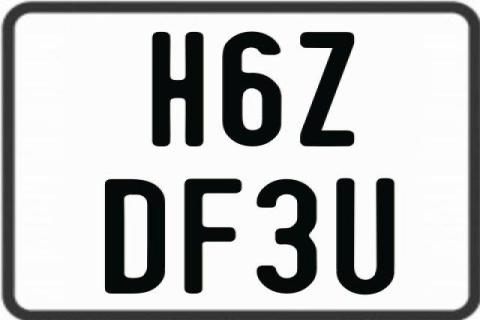0: (254, 179, 314, 295), (220, 29, 279, 144)
D: (103, 180, 164, 298)
F: (184, 178, 243, 296)
H: (152, 30, 206, 146)
U: (334, 179, 393, 295)
Z: (297, 32, 354, 146)
